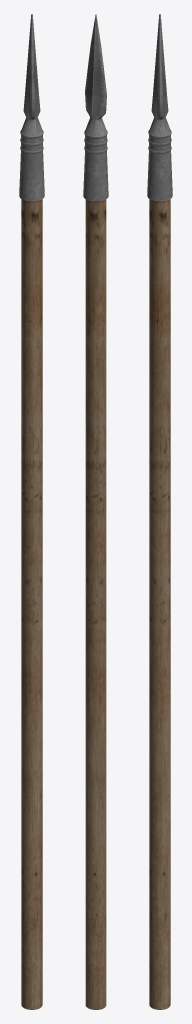
The model's file is mp_spear.glb.
3 renders of one model, left to right at view 1: azimuth 90°, elevation 25°; view 2: azimuth 150°, elevation 25°; view 3: azimuth 270°, elevation 25°, orthographic.
Visible parts, largest first — view 1: Spear; view 2: Spear; view 3: Spear.
Part boxes in pixels (x1,y1,x2,y2): Spear: (19, 14, 44, 1009); Spear: (83, 14, 108, 1009); Spear: (147, 14, 172, 1009).
Bounding box in the file's own units: 0.0446 × 1.9 × 0.0446.
Materials: 1 (1 with a texture image).
